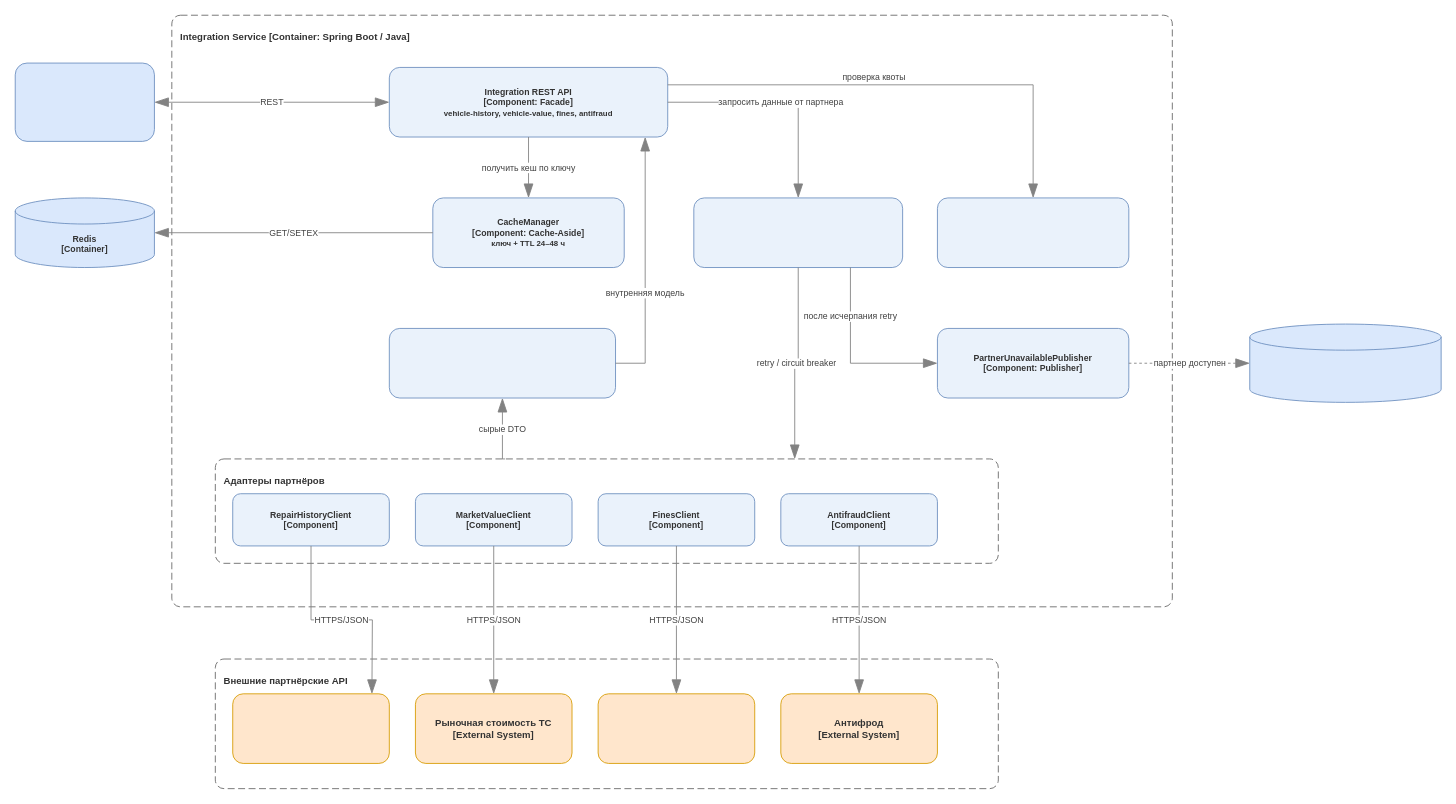
Some shapes in this 1456 by 804 pixel diagram are drawn without their labels. Each missing label, with the centre of its shape:
"Anti-Corruption Layer [Component: Mapper] DTO → внутренняя модель, коды НСИ" goes at point (502, 363).
"Message Broker [Container: Kafka]" goes at point (1345, 362).
"Proposal, Customer, Portfolio [Containers: доменные сервисы]" goes at point (84, 101).
"Quota / RateLimiter [Component: Policy]" goes at point (1033, 232).
"Resilience [Component: Retry / Circuit Breaker / Timeout]" goes at point (798, 232).
"История ремонта ТС [External System]" goes at point (310, 728).
"История штрафов [External System]" goes at point (676, 728).
